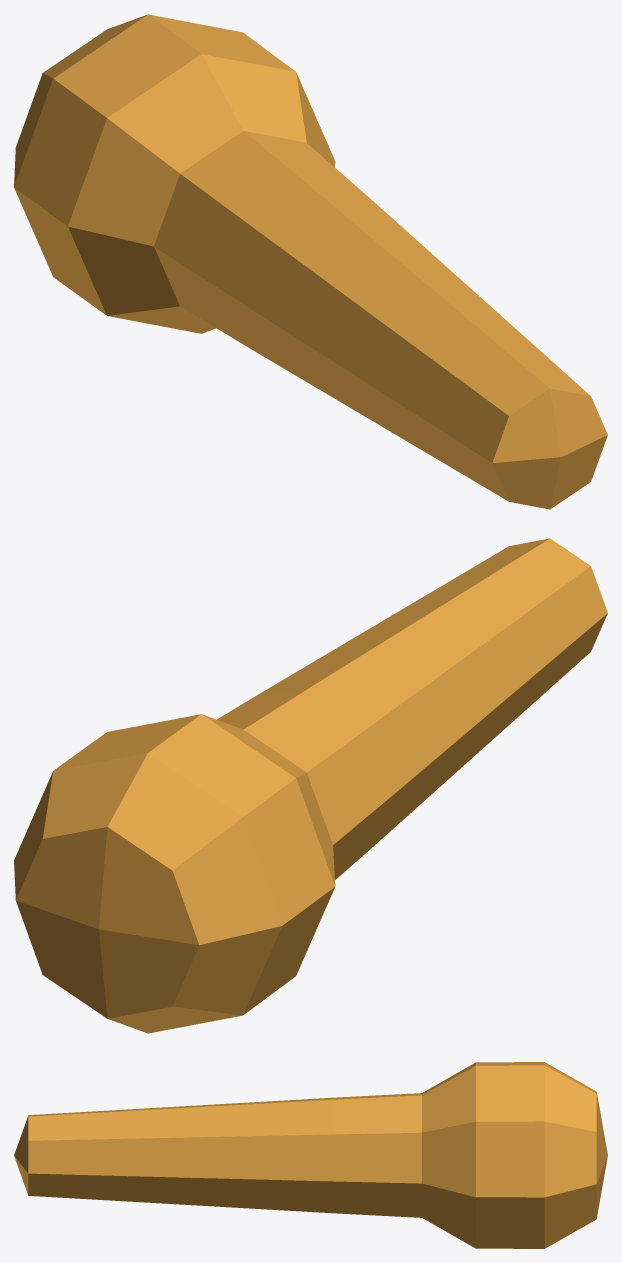
The model's file is music-microphone.glb.
The picture shows the model from 3 angles, top to bottom: view 1: azimuth 30°, elevation 25°; view 2: azimuth 150°, elevation 25°; view 3: azimuth 270°, elevation 25°; orthographic projection. The views are drawn at different scales.
Parts seen in each view (by area): view 1: microphone; view 2: microphone; view 3: microphone.
Boxes of the visible parts, box(x1,y1,x2,y2) form: microphone: box(14, 14, 607, 509); microphone: box(14, 538, 607, 1033); microphone: box(14, 1062, 607, 1248).
Size of the model in its own units: 0.1004 by 0.1004 by 0.2997.
